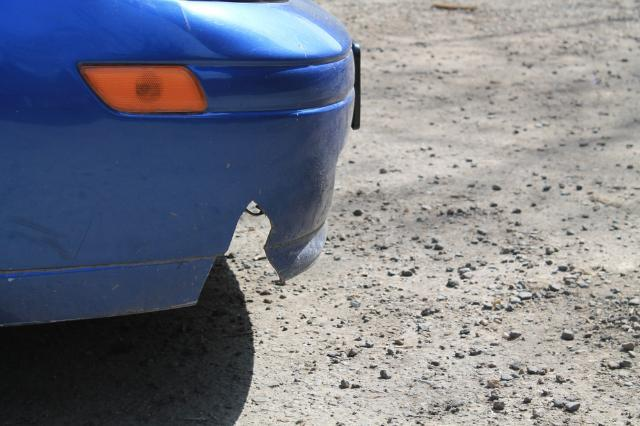no part: (193, 199, 286, 306)
